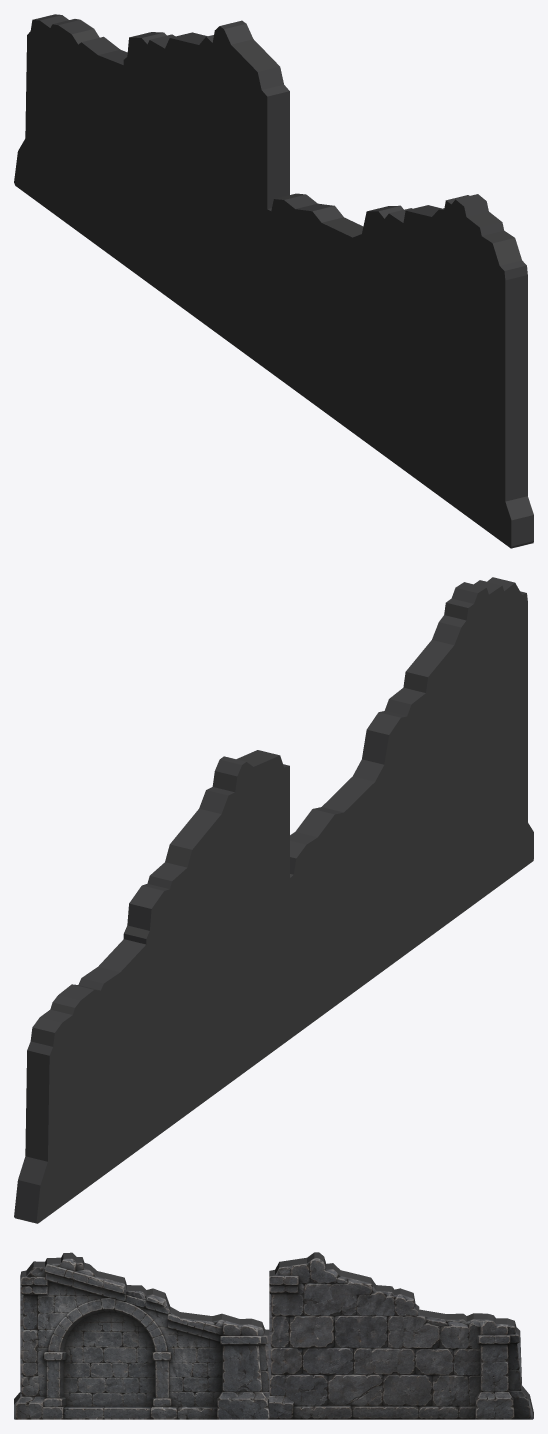
The model's file is SM_Decor_FacadeC.fbx.
3 renders of one model, top to bottom at view 1: azimuth 30°, elevation 25°; view 2: azimuth 150°, elevation 25°; view 3: azimuth 270°, elevation 25°, orthographic. The views are drawn at different scales.
Parts seen in each view (by area): view 1: SM_Decor_FacadeC; view 2: SM_Decor_FacadeC; view 3: SM_Decor_FacadeC.
Boxes of the visible parts, x1,y1,x2,y2 form: SM_Decor_FacadeC: (14, 14, 533, 548); SM_Decor_FacadeC: (14, 577, 533, 1223); SM_Decor_FacadeC: (14, 1252, 533, 1419).
Bounding box in the file's own units: 8 × 306 × 105.
Materials: 1 (1 with a texture image).
